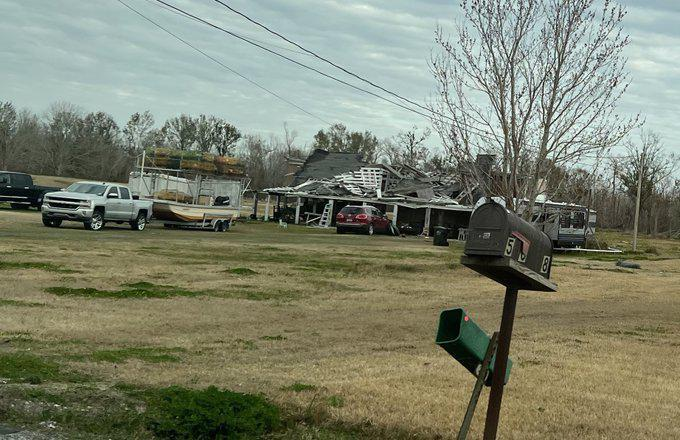destroyed: (254, 140, 614, 256)
